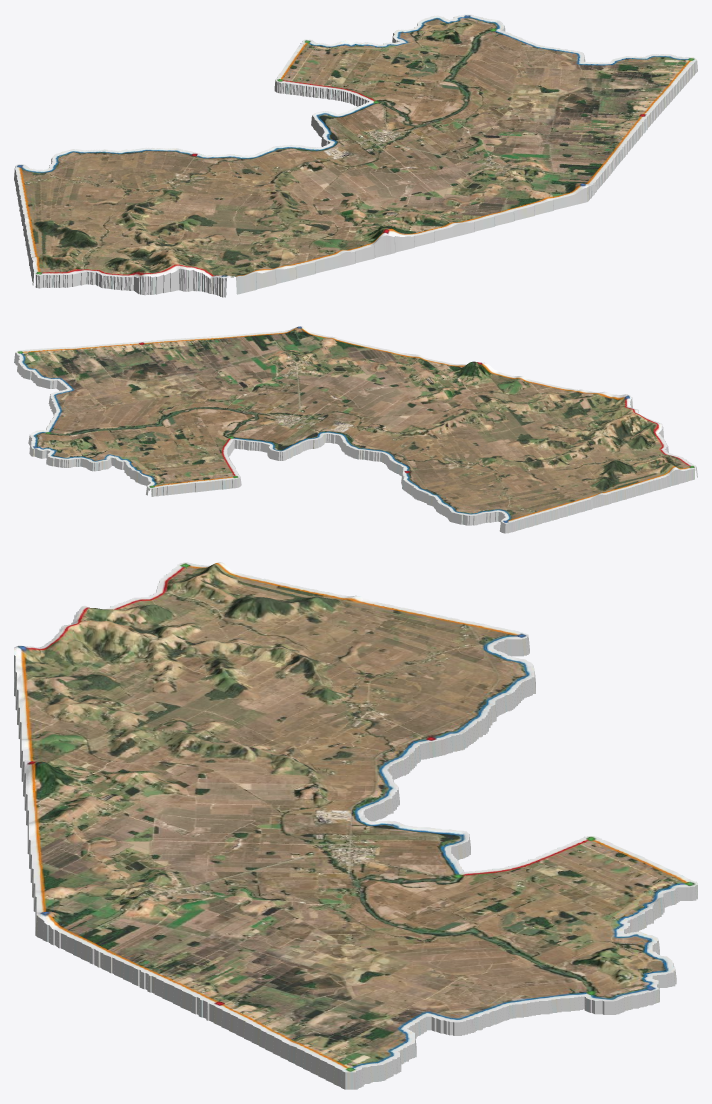
3 renders of one model, top to bottom at view 1: azimuth 30°, elevation 25°; view 2: azimuth 150°, elevation 25°; view 3: azimuth 270°, elevation 25°, orthographic. The views are drawn at different scales.
Bounding box in the file's own units: 1 × 0.0321 × 0.5672.
Materials: 1 (1 with a texture image).
